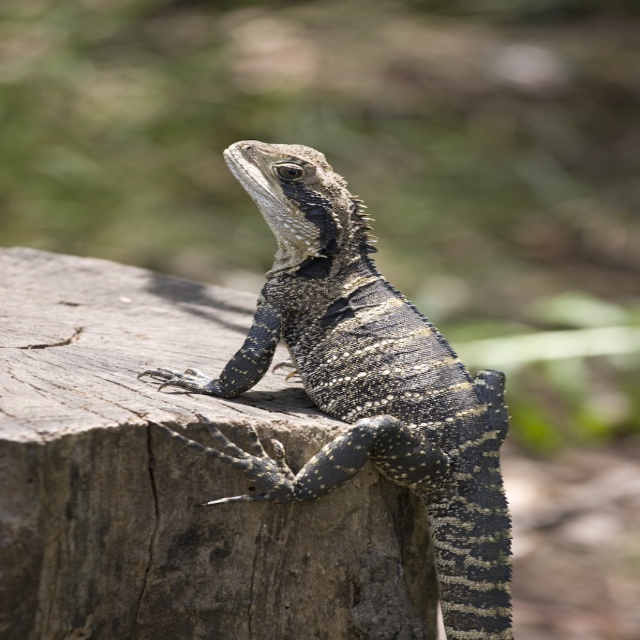Lizard: (137, 140, 513, 640)
